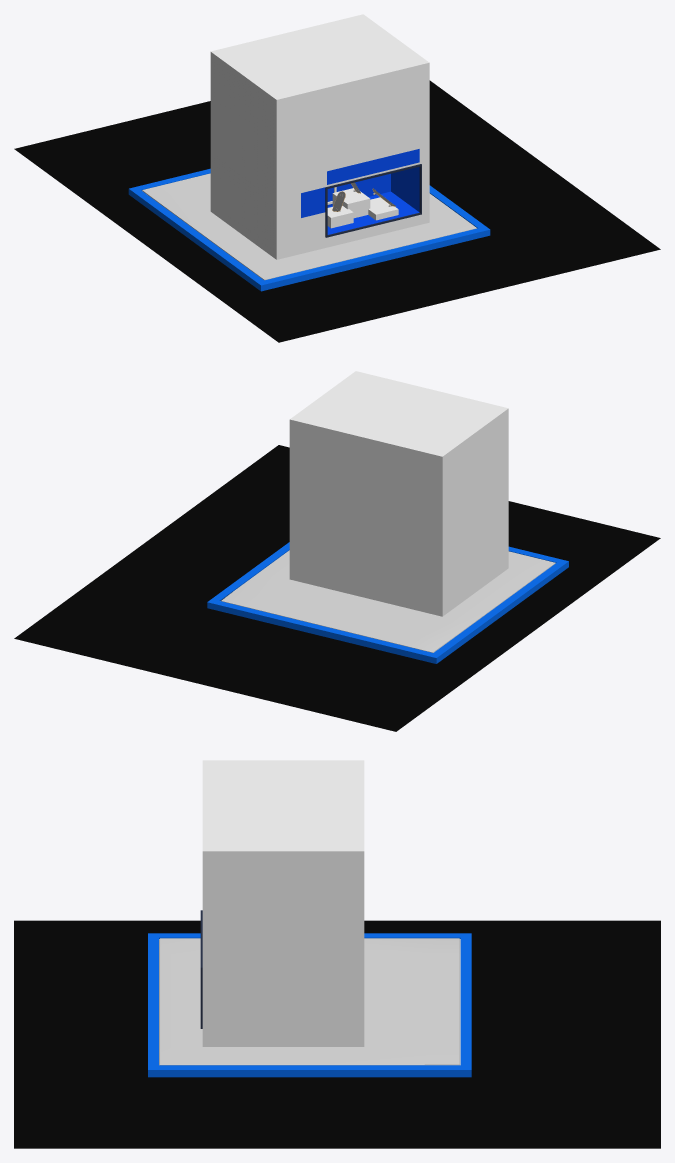
The model's file is escaparate_2.glb.
3 views of the same model, one above another, from view 1: azimuth 30°, elevation 25°; view 2: azimuth 150°, elevation 25°; view 3: azimuth 270°, elevation 25° (orthographic). The views are drawn at different scales.
Visible parts, largest first — view 1: asfalto, construccion, Plano, Plano.1, letrero-big, pared2, piso-techo, marco, Cubo.1, letrero, pared1, Cubo.3; view 2: asfalto, construccion, Plano, Plano.1; view 3: asfalto, construccion, Plano, Plano.1.
Boxes of the visible parts, x1,y1,x2,y2 form: asfalto: (14, 80, 660, 342); construccion: (210, 14, 429, 259); Plano: (142, 173, 476, 280); Plano.1: (128, 168, 490, 291); letrero-big: (327, 149, 419, 184); pared2: (391, 166, 419, 211); piso-techo: (327, 191, 419, 234); marco: (325, 164, 421, 237); Cubo.1: (332, 188, 370, 218); letrero: (301, 187, 325, 217); pared1: (338, 173, 390, 196); Cubo.3: (368, 197, 398, 220); asfalto: (14, 445, 660, 731); construccion: (289, 371, 508, 616); Plano: (221, 550, 555, 652); Plano.1: (207, 542, 568, 663); asfalto: (14, 920, 660, 1148); construccion: (202, 760, 364, 1046); Plano: (159, 938, 460, 1065); Plano.1: (148, 933, 471, 1077).
Bounding box in the file's own units: 10 × 4.2 × 12.
Materials: 7 (1 with a texture image).
